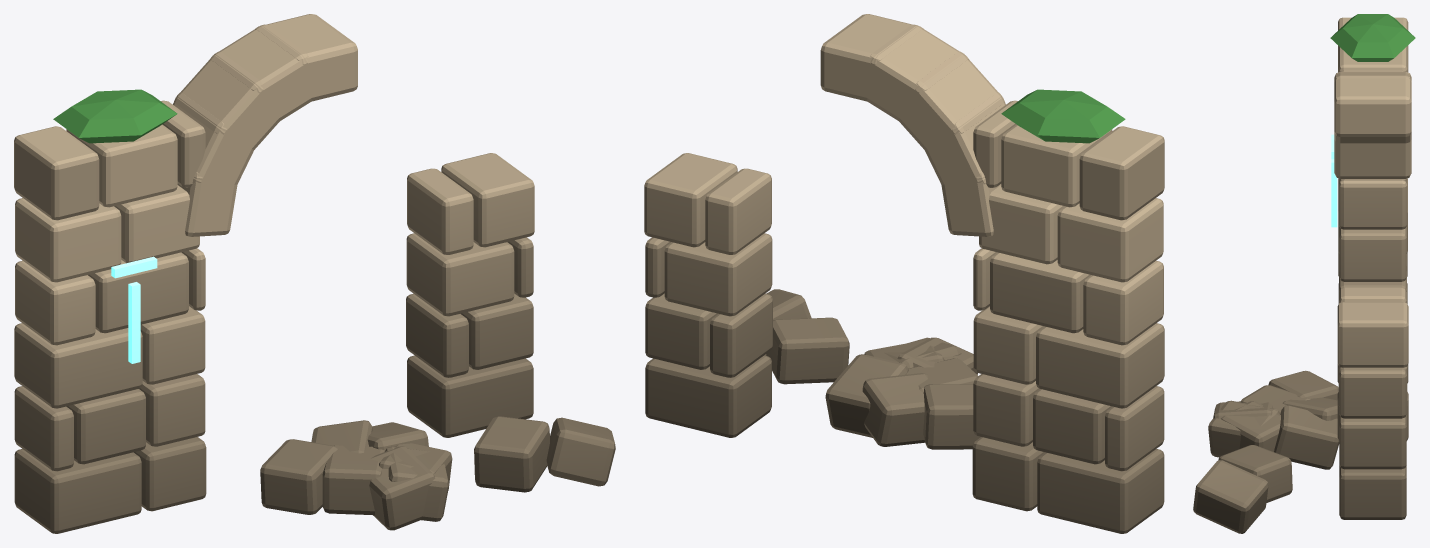
Rendered from ruin_arch.glb.
The picture shows the model from 3 angles, left to right: view 1: azimuth 30°, elevation 25°; view 2: azimuth 150°, elevation 25°; view 3: azimuth 270°, elevation 25°; orthographic projection. The views are drawn at different scales.
Parts seen in each view (by area): view 1: t0_stone_warm, t0_moss, t0_rune; view 2: t0_stone_warm, t0_moss; view 3: t0_stone_warm, t0_moss, t0_rune.
Boxes of the visible parts, x1,y1,x2,y2 form: t0_stone_warm: [14, 14, 615, 533]; t0_moss: [53, 89, 177, 143]; t0_rune: [111, 256, 157, 363]; t0_stone_warm: [644, 14, 1164, 533]; t0_moss: [1001, 89, 1125, 143]; t0_stone_warm: [1193, 17, 1411, 533]; t0_moss: [1330, 14, 1415, 61]; t0_rune: [1331, 134, 1337, 227].
Size of the model in its own units: 2.37 by 1.96 by 1.09.
